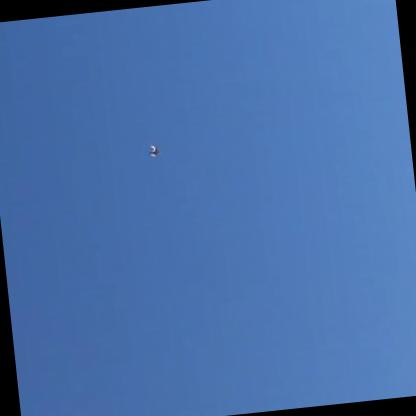plane: (148, 144, 157, 157)
